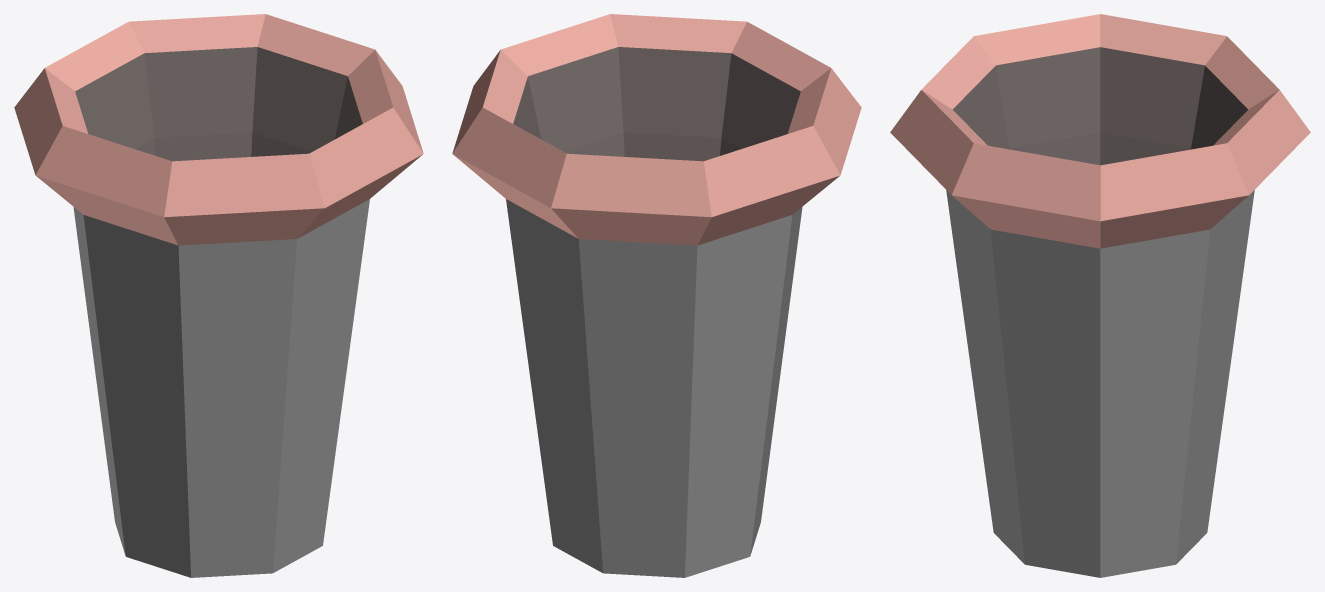
File: мусорка-2.fbx
The picture shows the model from 3 angles, left to right: view 1: azimuth 30°, elevation 25°; view 2: azimuth 150°, elevation 25°; view 3: azimuth 270°, elevation 25°; orthographic projection.
Visible parts, largest first — view 1: Мусорка коническая; view 2: Мусорка коническая; view 3: Мусорка коническая.
Part boxes in pixels (bbox=[...]): Мусорка коническая: bbox=[14, 14, 423, 577]; Мусорка коническая: bbox=[452, 14, 861, 577]; Мусорка коническая: bbox=[890, 14, 1310, 577].
Size of the model in its own units: 3.27 by 3.8 by 3.27.
